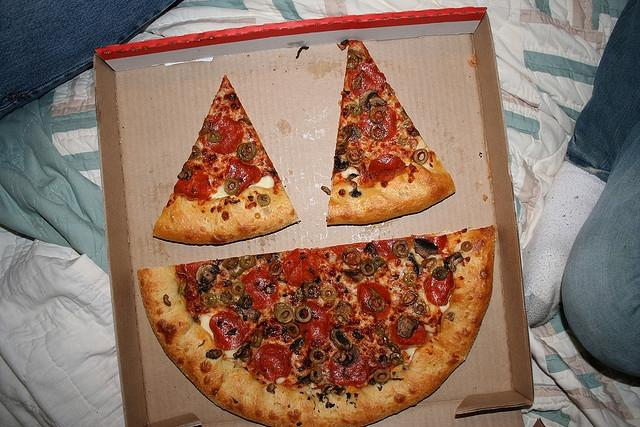mushroom: (360, 89, 388, 111), (329, 328, 354, 352), (195, 263, 220, 286), (396, 315, 419, 338), (414, 238, 438, 260), (236, 142, 256, 163), (368, 296, 385, 313), (448, 253, 463, 272), (360, 260, 376, 276), (290, 338, 304, 352), (346, 54, 359, 69), (223, 257, 239, 269), (252, 332, 264, 348), (351, 123, 362, 140), (178, 168, 192, 180), (333, 312, 349, 322)
